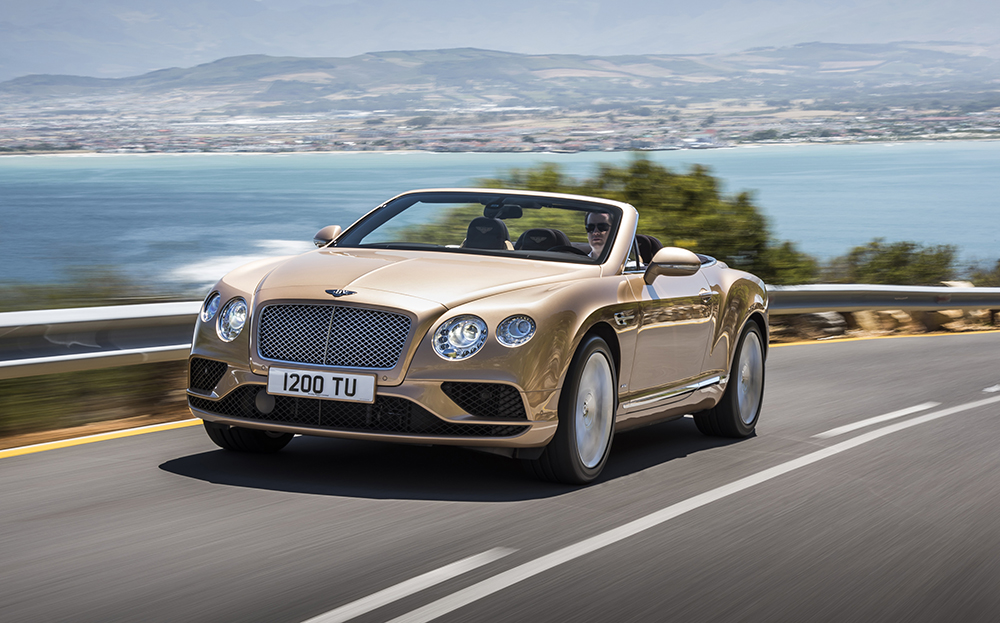car: (186, 186, 770, 486)
